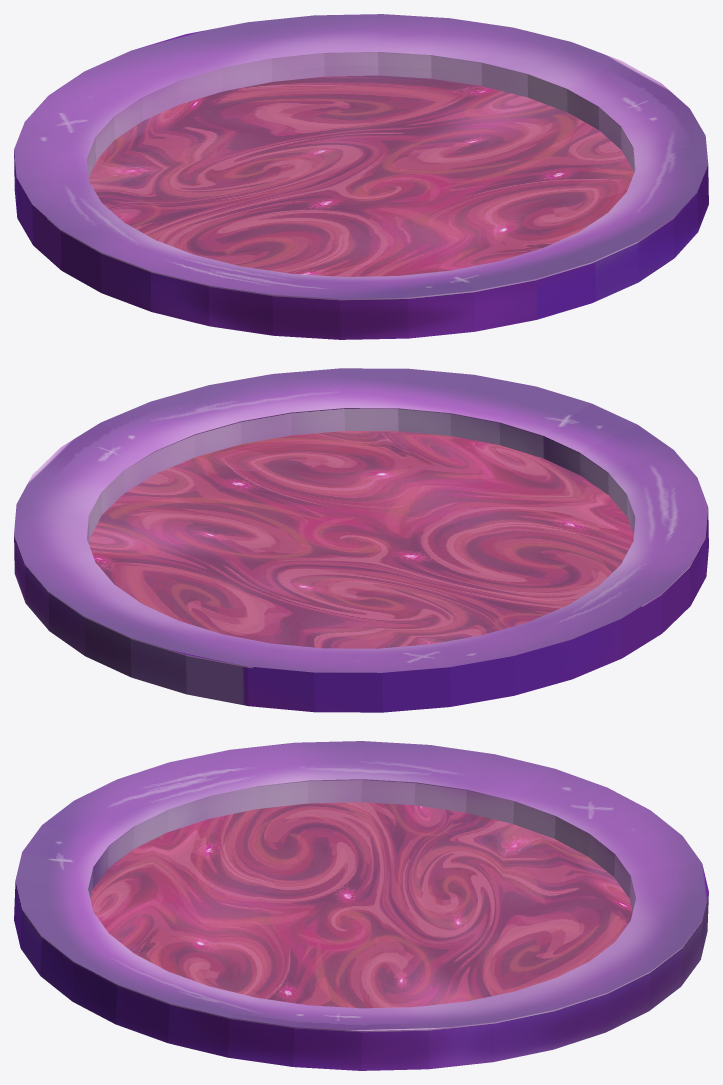
The model's file is vardaguyn portal.fbx.
3 renders of one model, top to bottom at view 1: azimuth 30°, elevation 25°; view 2: azimuth 150°, elevation 25°; view 3: azimuth 270°, elevation 25°, orthographic.
Parts seen in each view (by area): view 1: Cylinder.004, Plane.004; view 2: Cylinder.004, Plane.004; view 3: Cylinder.004, Plane.004.
Part boxes in pixels (bbox=[...]): Cylinder.004: bbox=[14, 14, 708, 339]; Plane.004: bbox=[88, 75, 633, 276]; Cylinder.004: bbox=[14, 368, 708, 712]; Plane.004: bbox=[89, 431, 633, 648]; Cylinder.004: bbox=[14, 741, 708, 1070]; Plane.004: bbox=[90, 802, 632, 1008].
Size of the model in its own units: 4246 by 351 by 4299.
2 materials, 2 textured.
